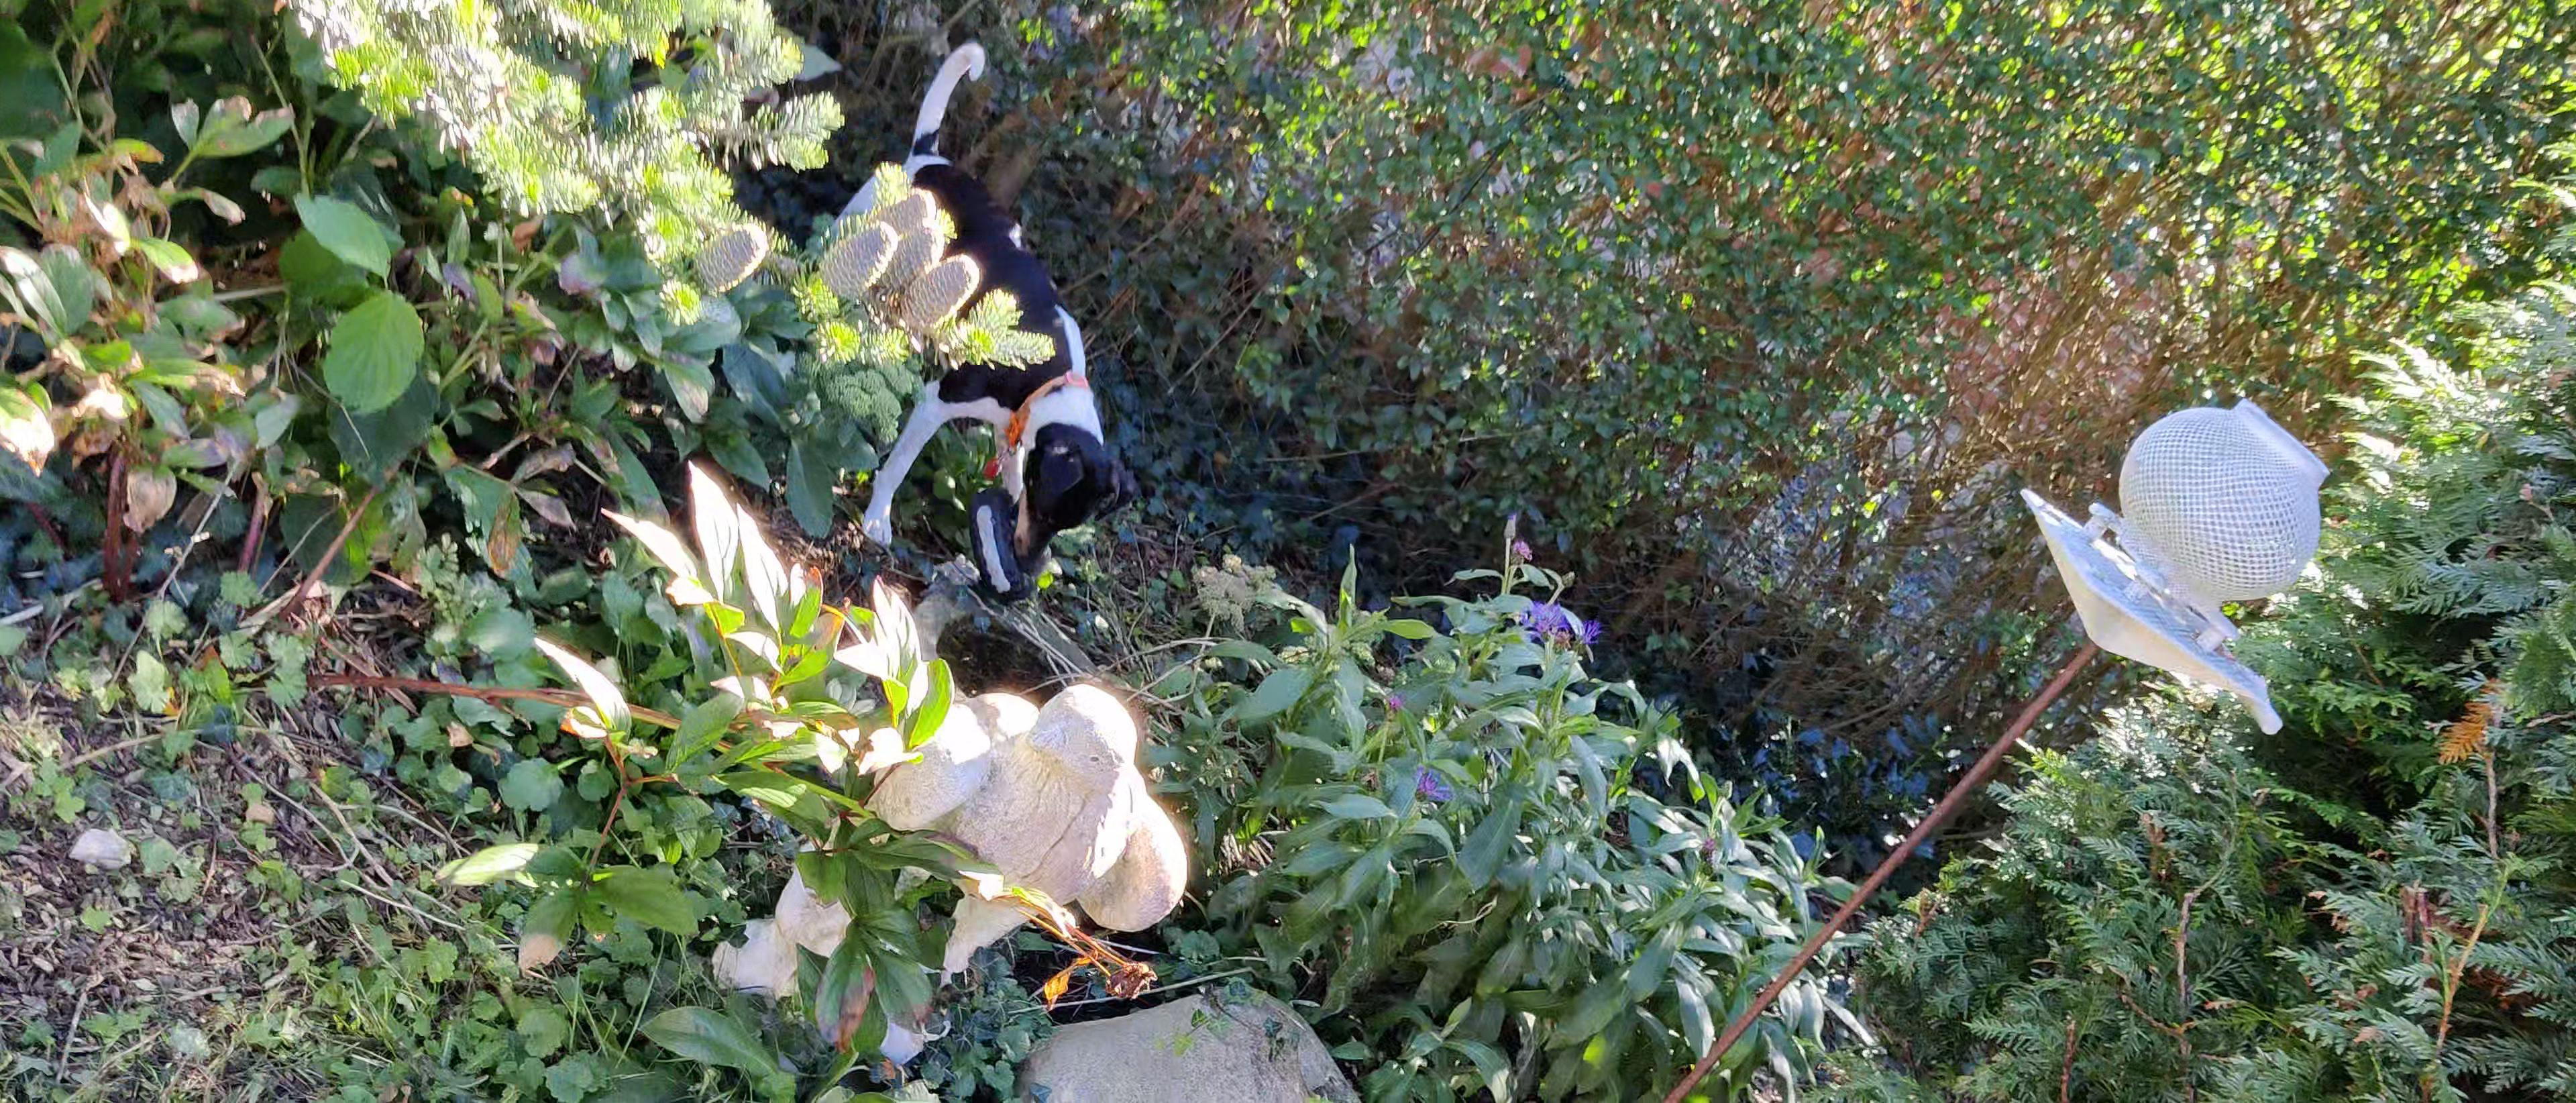Dog: (802, 28, 1145, 565)
